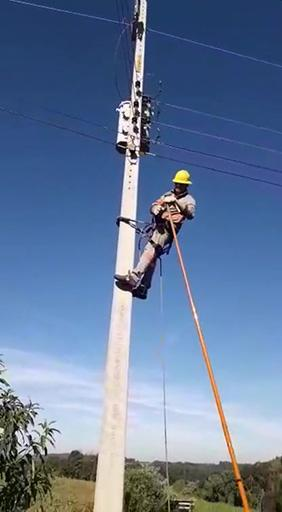Vara_Manobra: (165, 207, 250, 512)
